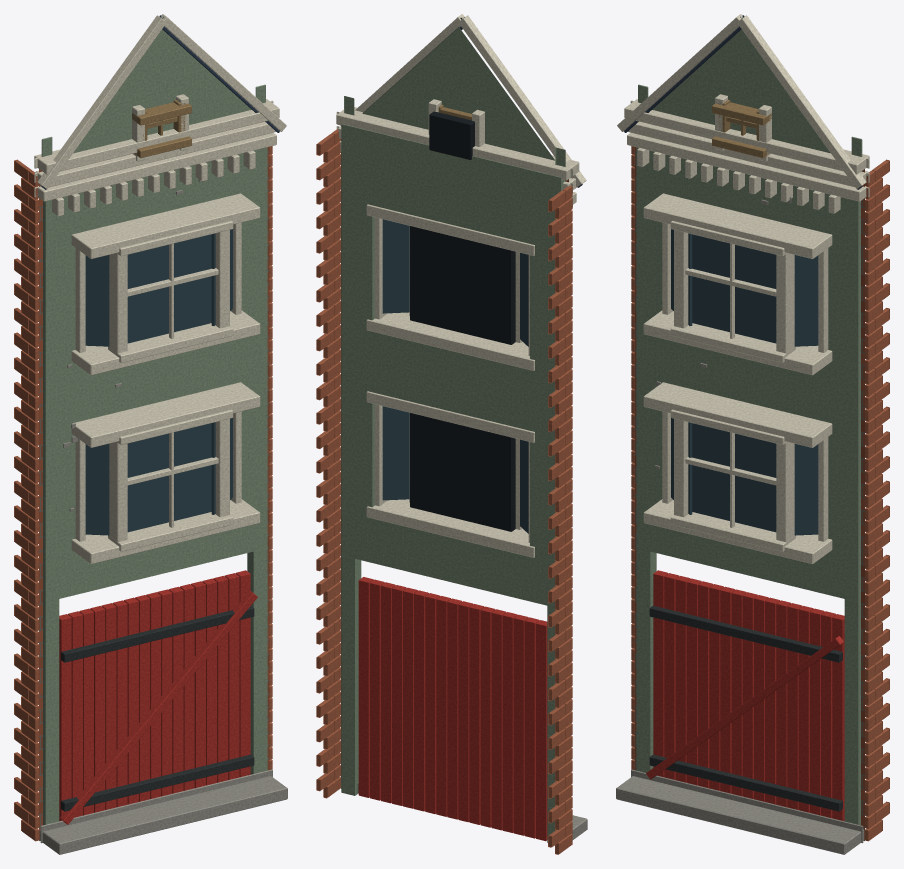
File: VICT12_lod0.glb
3 renders of one model, left to right at view 1: azimuth 30°, elevation 25°; view 2: azimuth 150°, elevation 25°; view 3: azimuth 330°, elevation 25°, orthographic.
Parts seen in each view (by area): view 1: VICT12_FRONT_LOD0; view 2: VICT12_FRONT_LOD0; view 3: VICT12_FRONT_LOD0.
Part boxes in pixels (x1,y1,x2,y2): VICT12_FRONT_LOD0: [14, 14, 287, 854]; VICT12_FRONT_LOD0: [316, 14, 587, 854]; VICT12_FRONT_LOD0: [616, 14, 889, 854].
Bounding box in the file's own units: 3.53 × 11.05 × 1.11.
14 materials, 12 textured.
